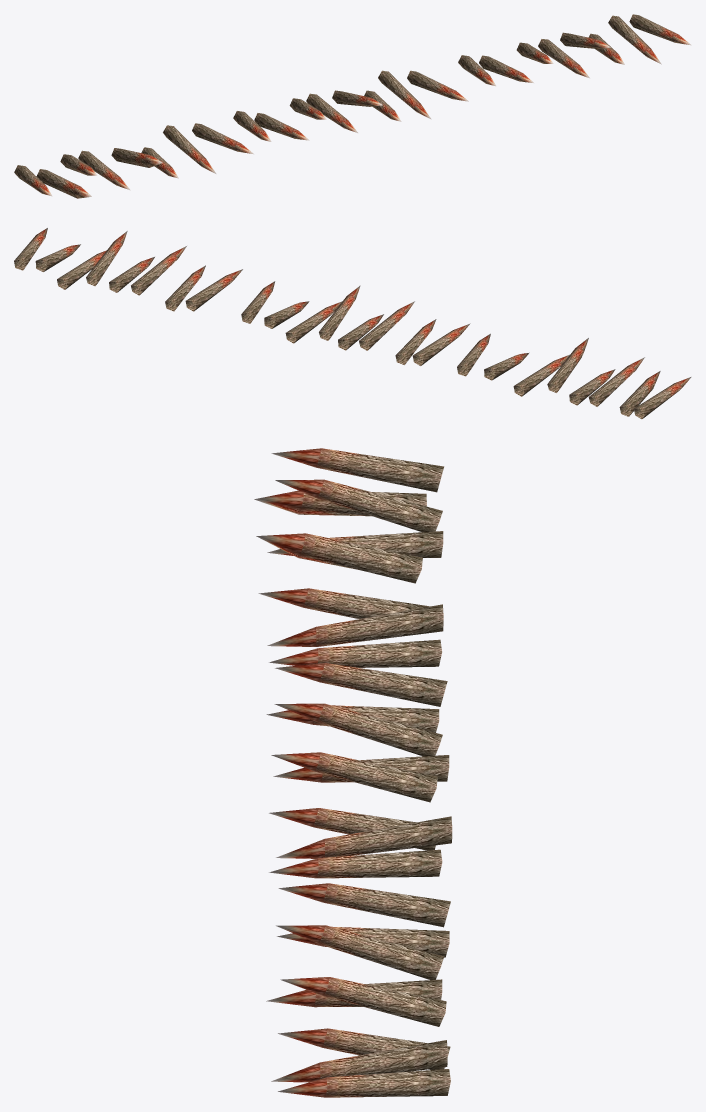
The picture shows the model from 3 angles, top to bottom: view 1: azimuth 30°, elevation 25°; view 2: azimuth 150°, elevation 25°; view 3: azimuth 270°, elevation 25°; orthographic projection. The views are drawn at different scales.
Parts seen in each view (by area): view 1: 0; view 2: 0; view 3: 0.
Part boxes in pixels (left/top/right/bottom): 0: left=14, top=14, right=691, bottom=198; 0: left=14, top=228, right=691, bottom=419; 0: left=254, top=448, right=452, bottom=1097.
Bounding box in the file's own units: 332 × 17.14 × 44.38.
